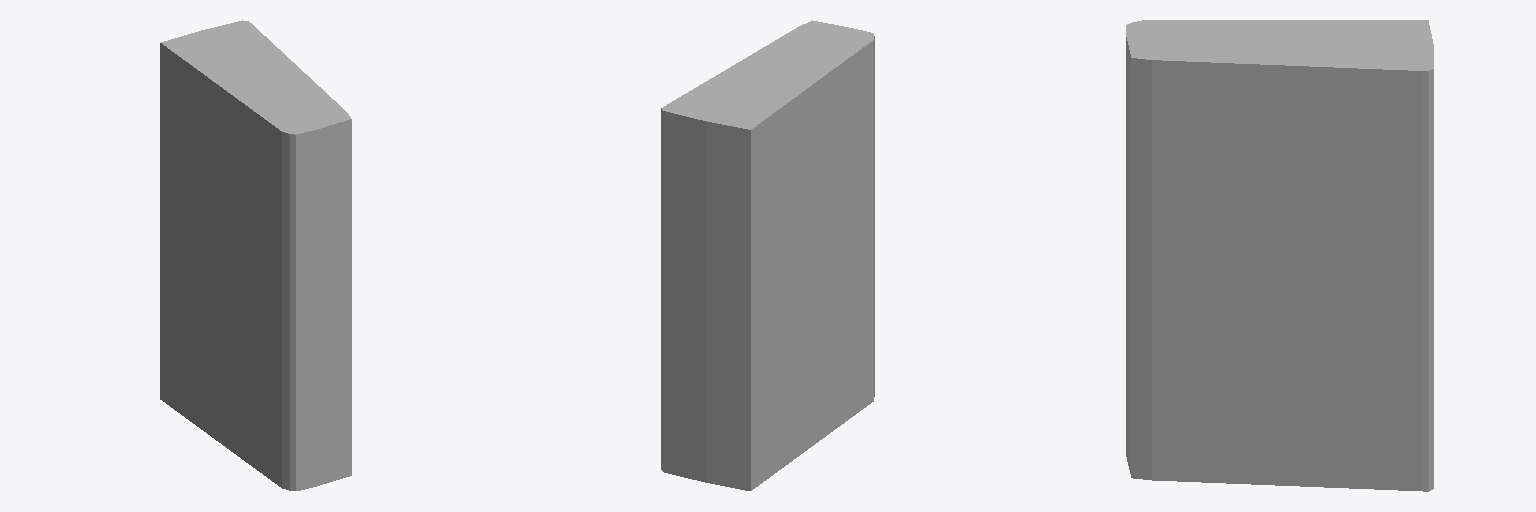
URDF robot description (root):
<robot name="root">
  <link name="link_bacef3777b91b02f29c5890b07f3a65_convex_piece_0">
    <inertial>
      <origin rpy="0 0 0" xyz="0 0 0"/>
      <mass value="-4.13E-05"/>
      <inertia ixx="-2.35E-08" ixy="-3.28E-10" ixz="-4.37E-26" iyy="-1.73E-08" iyz="-1.84E-25" izz="-7.89E-09"/>
    </inertial>
    <visual>
      <origin rpy="0 0 0" xyz="0 0 0"/>
      <geometry>
        <mesh filename="bacef3777b91b02f29c5890b07f3a65_convex_piece_0.obj" scale="1.0000E+00"/>
      </geometry>
      <material name="">
        <color rgba="7.50E-01 7.50E-01 7.50E-01 1"/>
      </material>
    </visual>
    <collision>
      <origin rpy="0 0 0" xyz="0 0 0"/>
      <geometry>
        <mesh filename="bacef3777b91b02f29c5890b07f3a65_convex_piece_0.obj" scale="1.0000E+00"/>
      </geometry>
    </collision>
  </link>
</robot>

--- Facts derived from the render (not from the file) ---
The picture shows the robot from 3 angles, left to right: view 1: azimuth 30°, elevation 25°; view 2: azimuth 150°, elevation 25°; view 3: azimuth 270°, elevation 25°; orthographic projection.
Model root with 1 links and 0 joints (none), rooted at link_bacef3777b91b02f29c5890b07f3a65_convex_piece_0, posed every joint at zero.
Links seen in each view (by area): view 1: link_bacef3777b91b02f29c5890b07f3a65_convex_piece_0; view 2: link_bacef3777b91b02f29c5890b07f3a65_convex_piece_0; view 3: link_bacef3777b91b02f29c5890b07f3a65_convex_piece_0.
Boxes of the visible links, <box> form: link_bacef3777b91b02f29c5890b07f3a65_convex_piece_0: <box>160,20,351,490</box>; link_bacef3777b91b02f29c5890b07f3a65_convex_piece_0: <box>661,20,874,490</box>; link_bacef3777b91b02f29c5890b07f3a65_convex_piece_0: <box>1126,20,1433,491</box>.
Bounding box of the posed robot: 0.0179 × 0.0459 × 0.0692 m (x, y, z).
Meshes: 1 distinct files referenced, 1 mesh visuals loaded (1 OBJ).